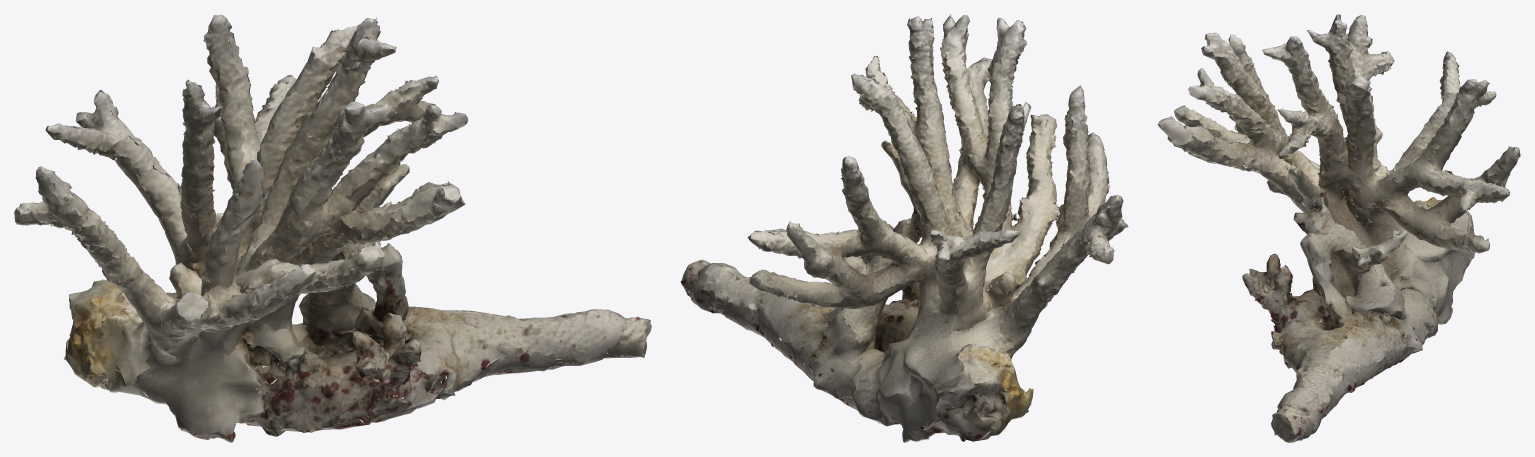
The model's file is Acropora_LOD0.fbx.
3 views of the same model, side by side, from view 1: azimuth 30°, elevation 25°; view 2: azimuth 150°, elevation 25°; view 3: azimuth 270°, elevation 25° (orthographic). The views are drawn at different scales.
Parts seen in each view (by area): view 1: Acropora_LOD0; view 2: Acropora_LOD0; view 3: Acropora_LOD0.
Part boxes in pixels (x1,y1,x2,y2): Acropora_LOD0: [14, 14, 651, 442]; Acropora_LOD0: [680, 14, 1128, 442]; Acropora_LOD0: [1157, 14, 1520, 442].
Bounding box in the file's own units: 100 × 71.57 × 71.38.
Materials: 1 (1 with a texture image).
